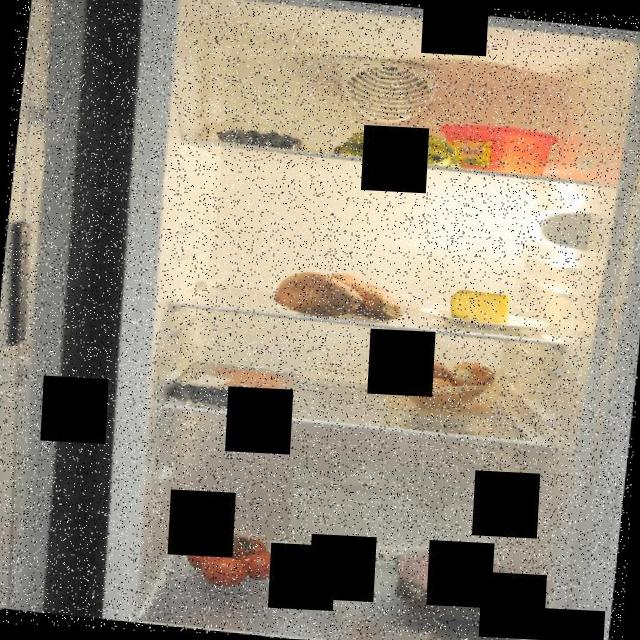Carne pollo: (389, 538, 524, 628)
Carne vacuno: (189, 361, 286, 401)
Cebolla: (397, 348, 501, 421)
Mantequilla: (436, 120, 568, 178)
Plátano: (334, 124, 467, 168)
Queso: (446, 287, 515, 328)
Tomate: (183, 516, 293, 594)
